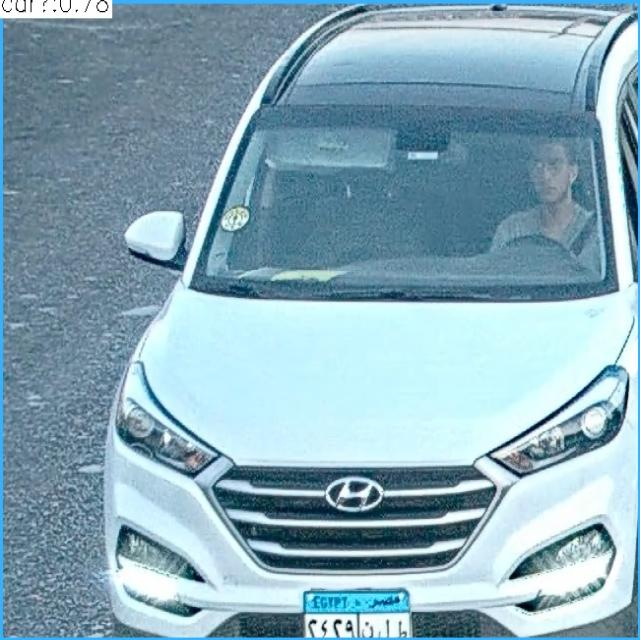windshield: (199, 110, 605, 293)
